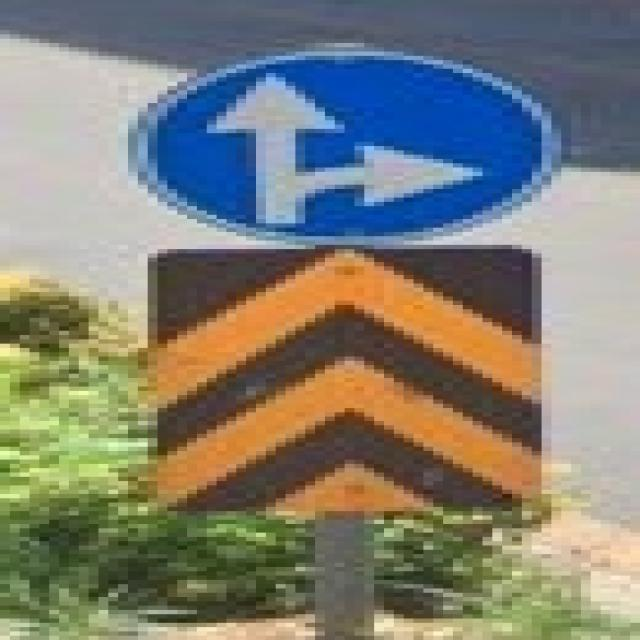Straight or Right: (124, 53, 538, 242)
